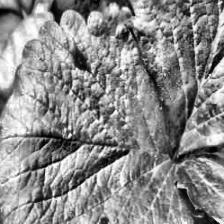Leaf Spot: (0, 9, 204, 224), (123, 0, 224, 159), (172, 110, 224, 224)
